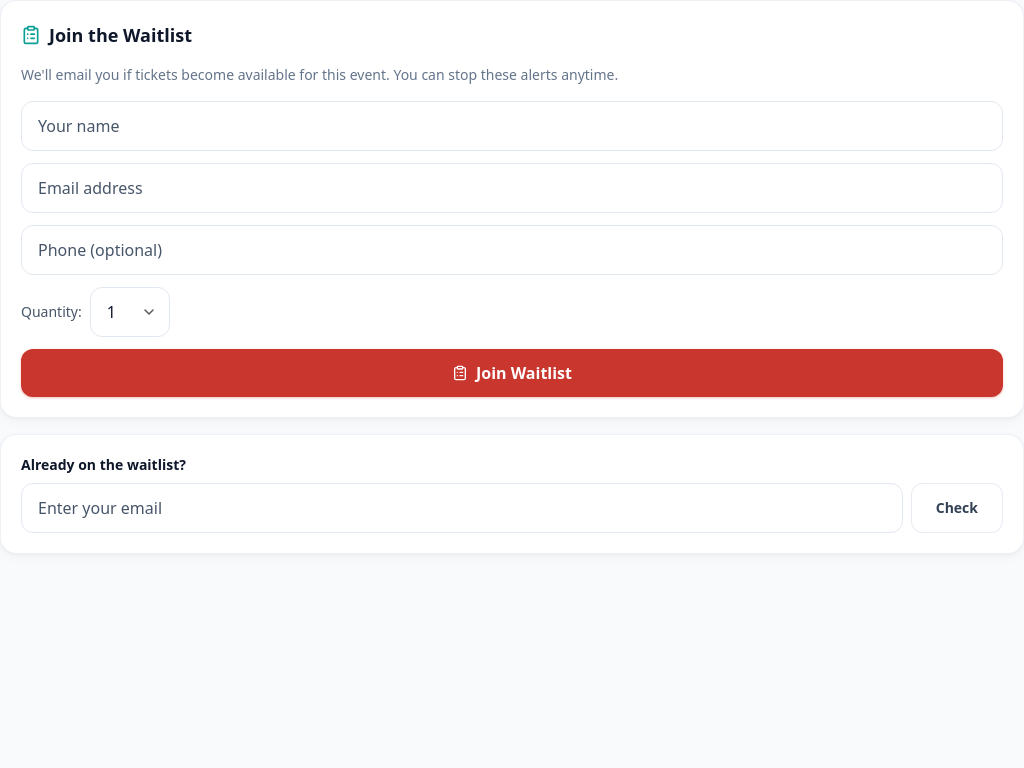
Test: describes browser-saved credentials, not an email-wide search
In the field with placeholder "Enter your email": (462, 508) [21,483,903,533], type "buyer@example.test"
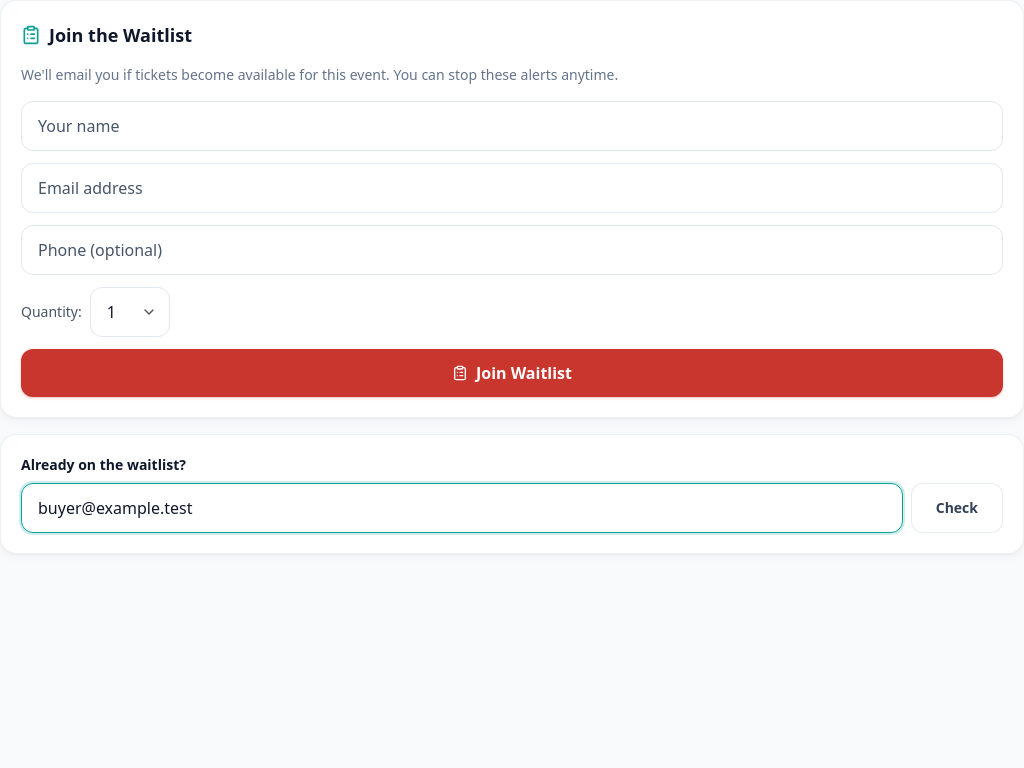
Click the button "Check": (957, 508) [911,483,1003,533]
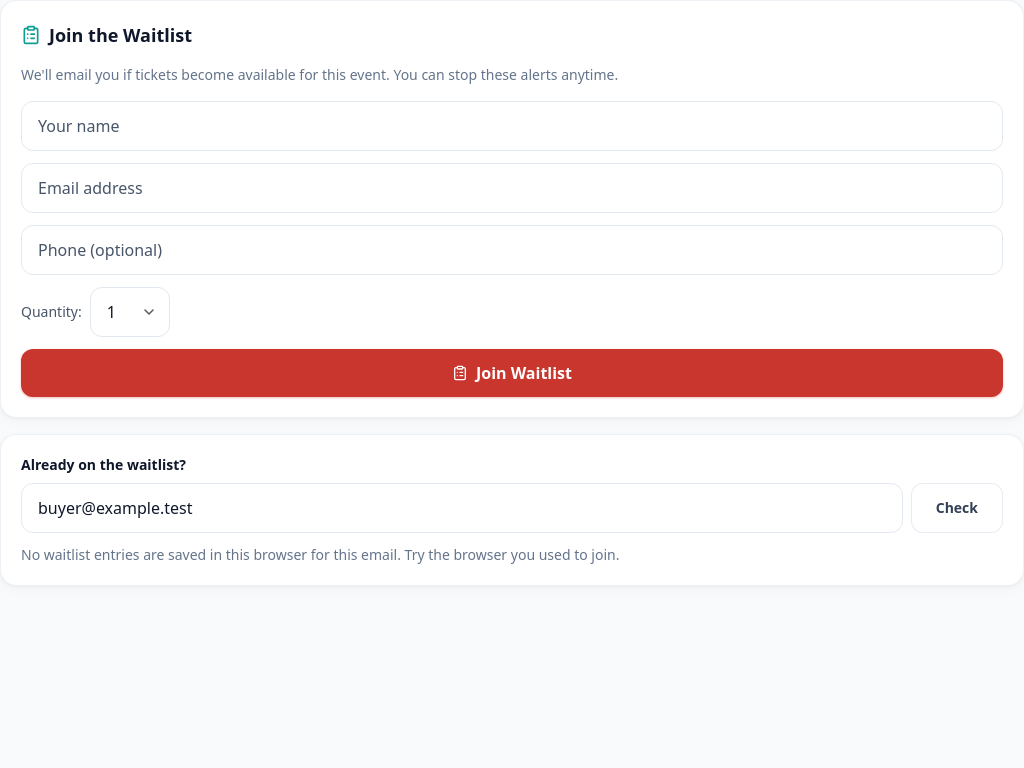
Check: the text "No waitlist entries are saved in this browser for this email" is shown, box [21,545,620,564]
